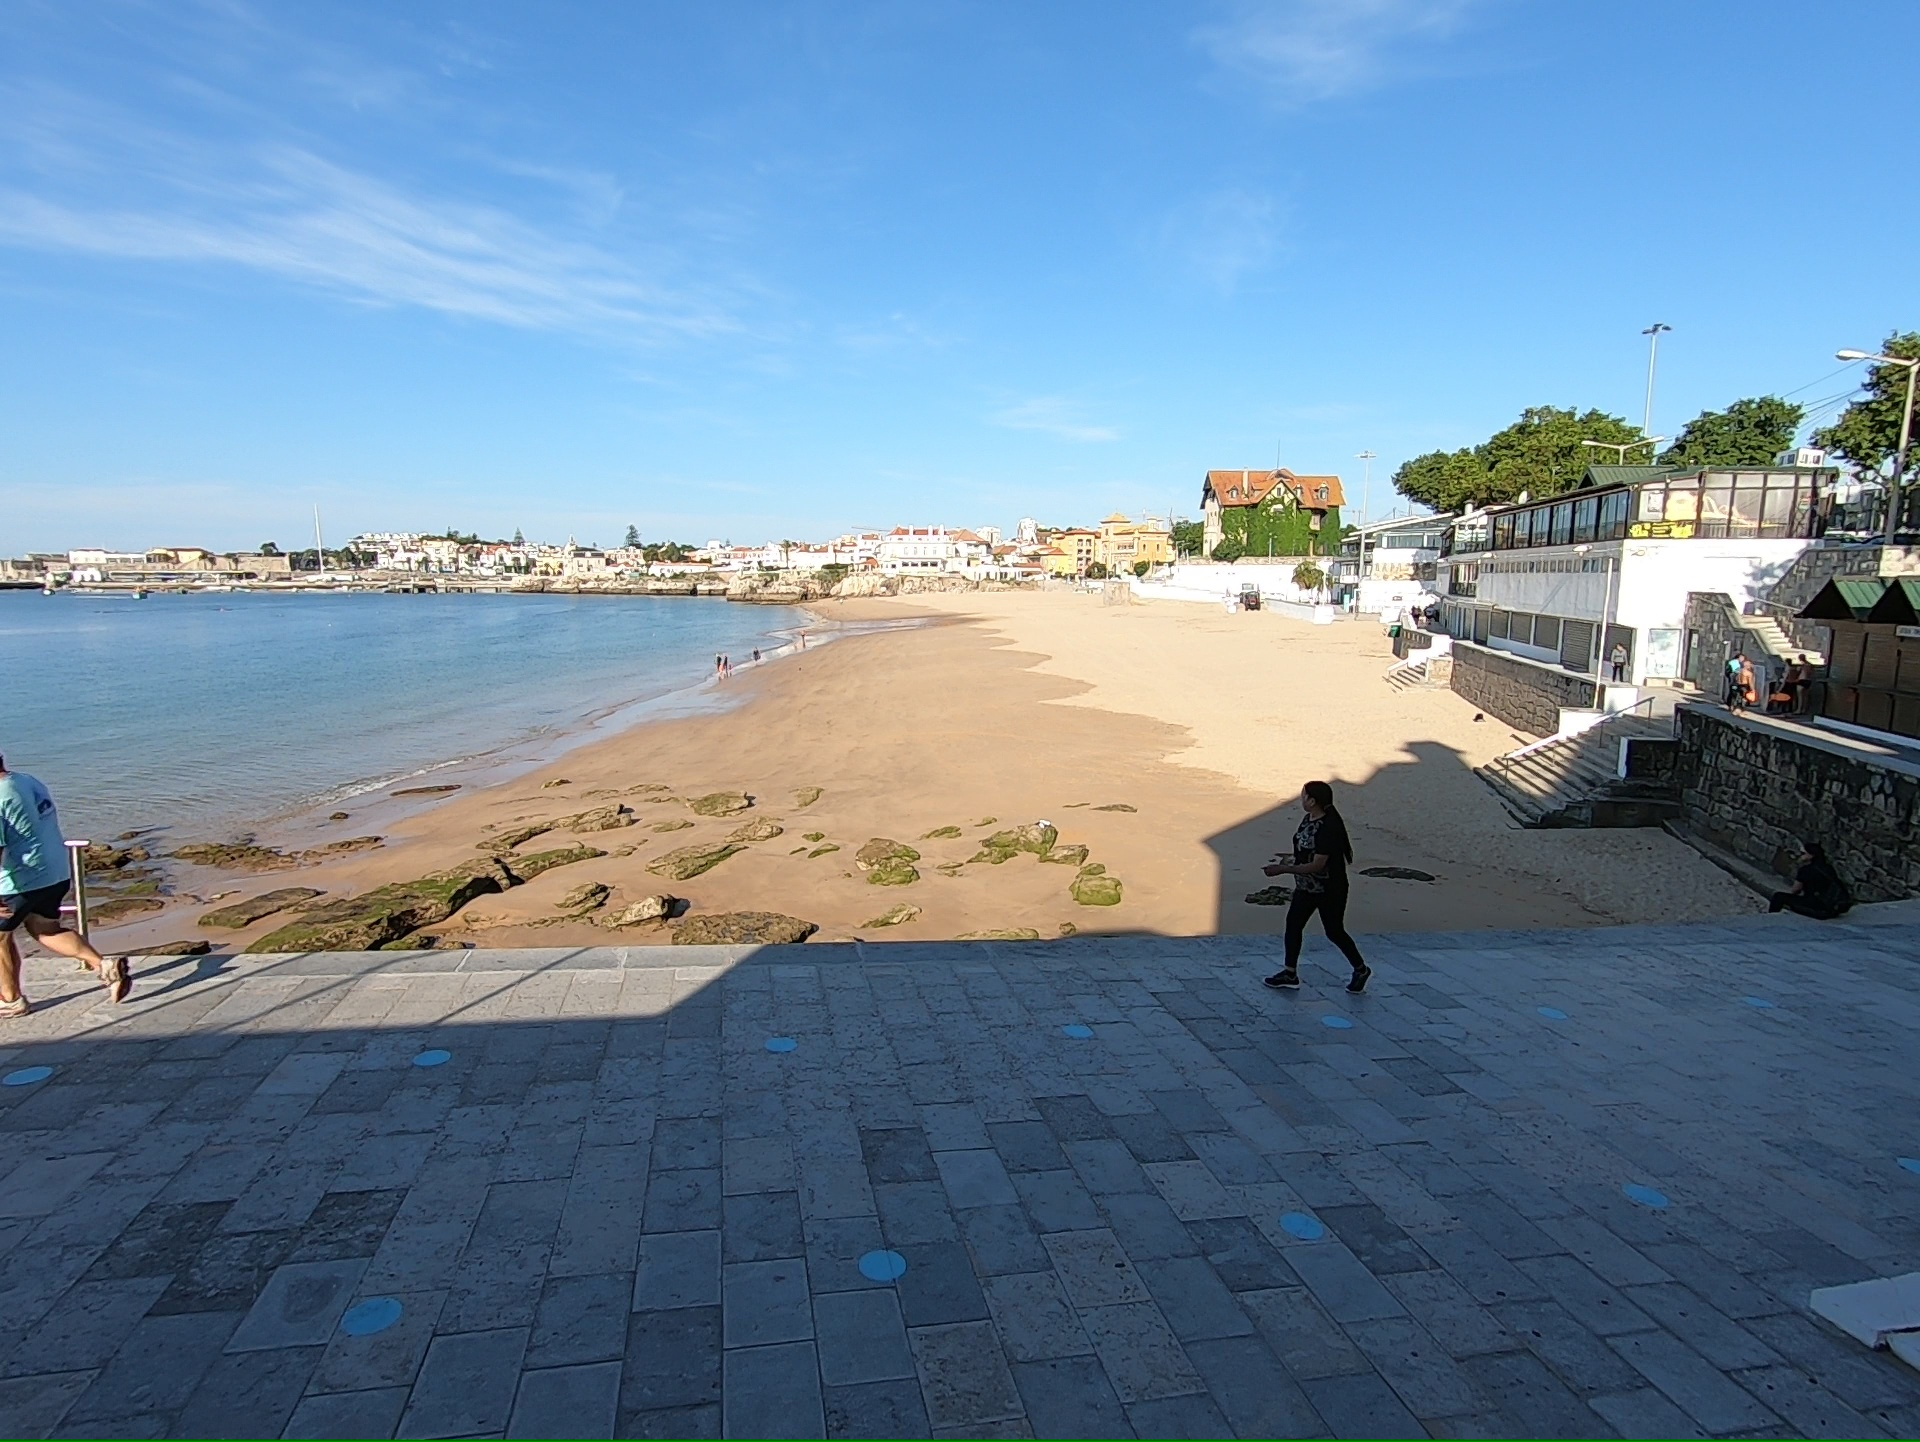person: (1255, 777, 1369, 986), (1767, 839, 1853, 921), (1733, 659, 1756, 714), (1795, 652, 1811, 716), (1777, 657, 1793, 711), (1609, 642, 1627, 681), (753, 648, 760, 661), (715, 654, 720, 670), (722, 654, 727, 672), (800, 631, 804, 642)
